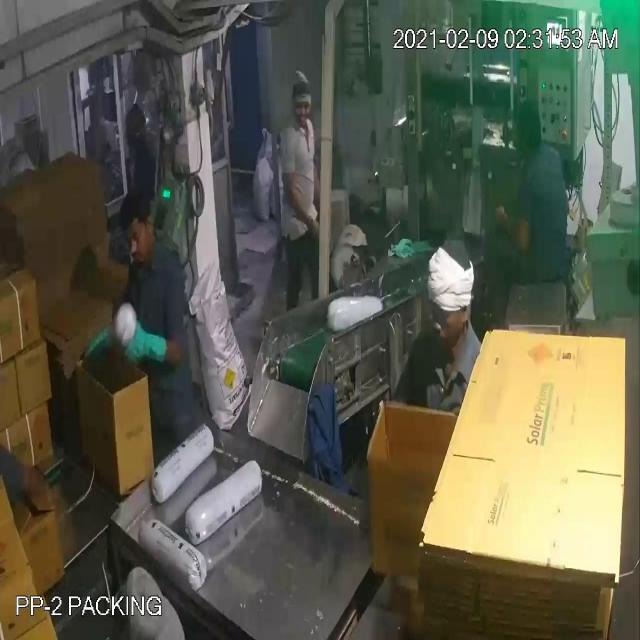No_Gloves: (37, 78, 513, 476)
